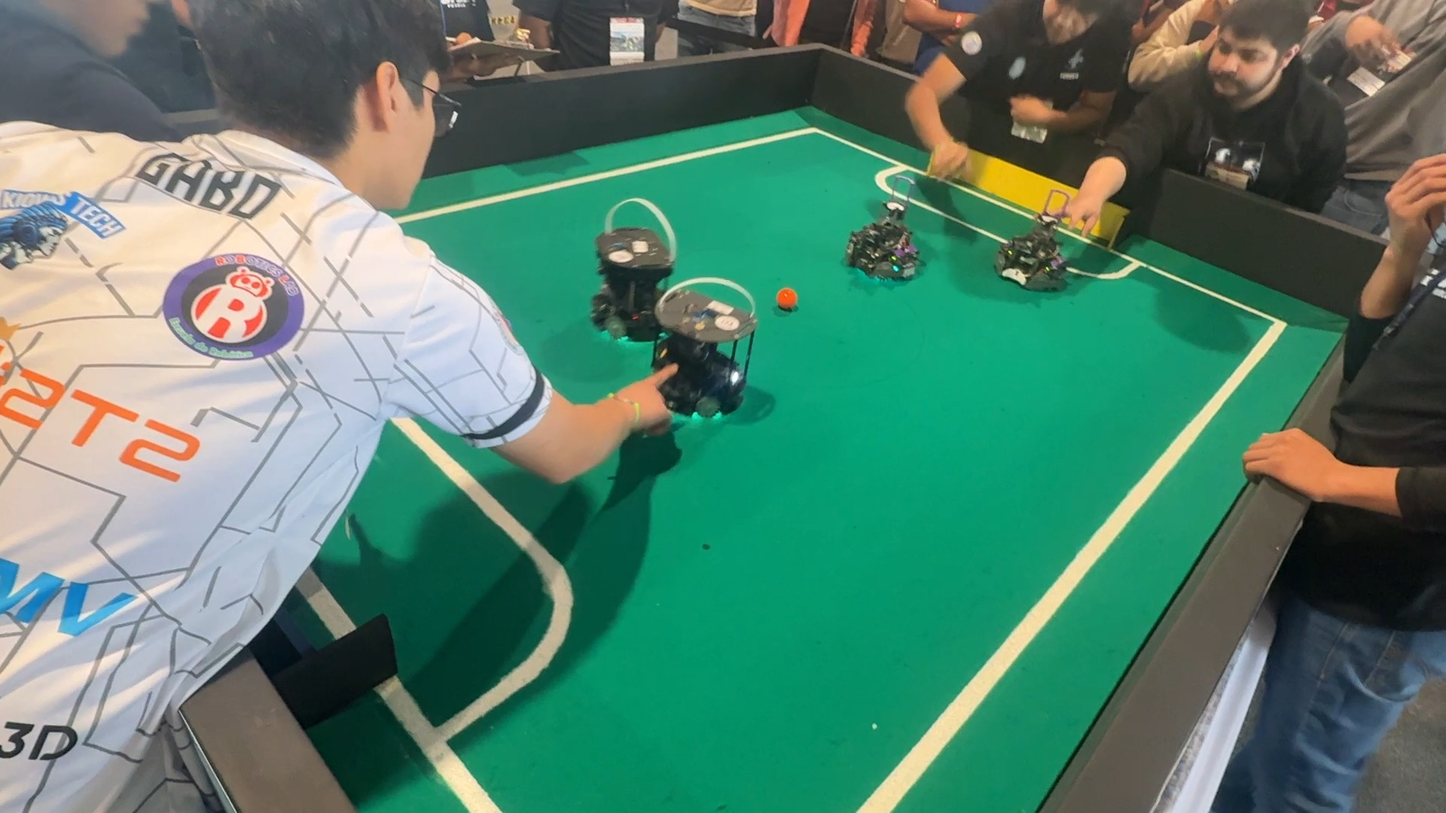Robot: (564, 192, 703, 359), (644, 277, 768, 445), (831, 196, 936, 301), (987, 200, 1083, 305)
pelota: (774, 285, 807, 318)
